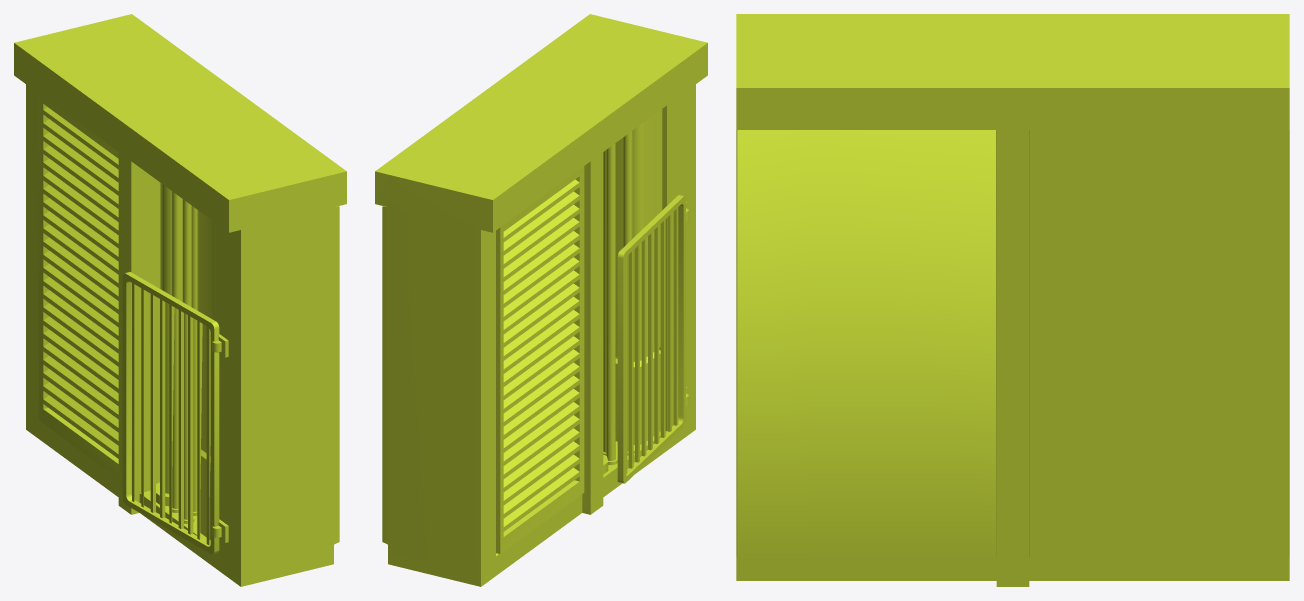
File: Wall01_L0.fbx
3 views of the same model, side by side, from view 1: azimuth 30°, elevation 25°; view 2: azimuth 150°, elevation 25°; view 3: azimuth 270°, elevation 25° (orthographic). The views are drawn at different scales.
Visible parts, largest first — view 1: Wall01_L0; view 2: Wall01_L0; view 3: Wall01_L0.
Boxes of the visible parts, <box> form: Wall01_L0: <box>14,14,346,586</box>; Wall01_L0: <box>375,14,707,586</box>; Wall01_L0: <box>736,14,1289,586</box>.
Bounding box in the file's own units: 138 × 400 × 400.
